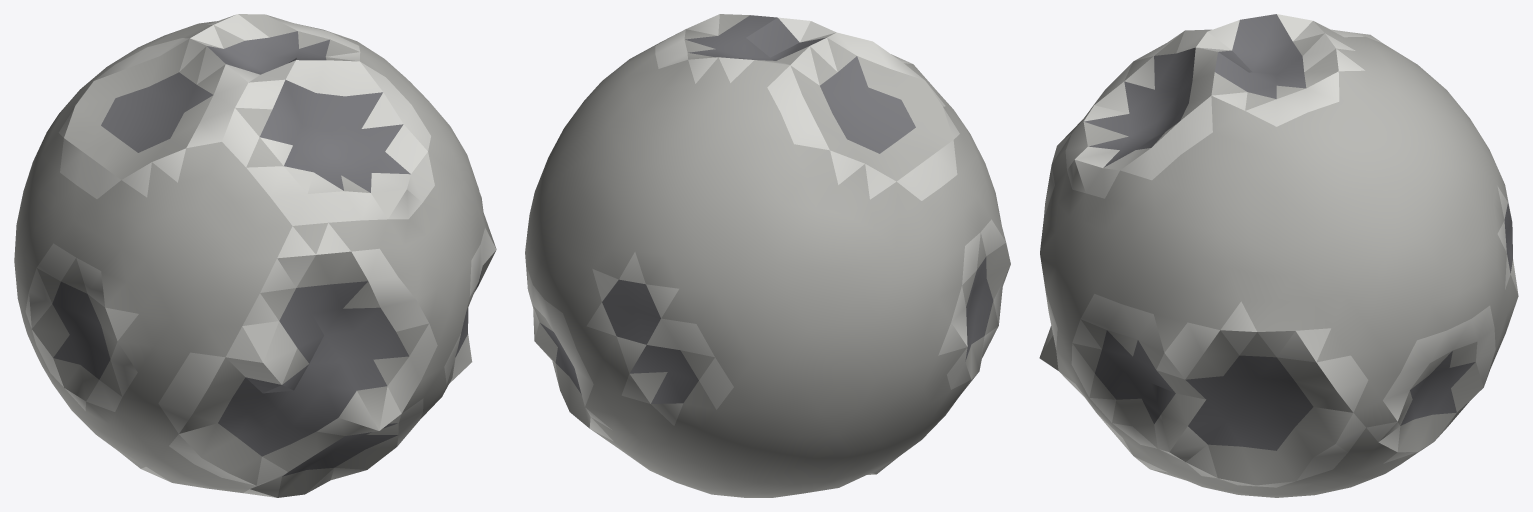
Rendered from moon.fbx.
3 views of the same model, side by side, from view 1: azimuth 30°, elevation 25°; view 2: azimuth 150°, elevation 25°; view 3: azimuth 270°, elevation 25° (orthographic).
Parts seen in each view (by area): view 1: Moon; view 2: Moon; view 3: Moon.
Boxes of the visible parts, bbox=[...] form: Moon: bbox=[14, 14, 496, 497]; Moon: bbox=[525, 14, 1010, 497]; Moon: bbox=[1039, 14, 1518, 497].
Bounding box in the file's own units: 0.5105 × 0.5072 × 0.4994.
Materials: 1 (1 with a texture image).
